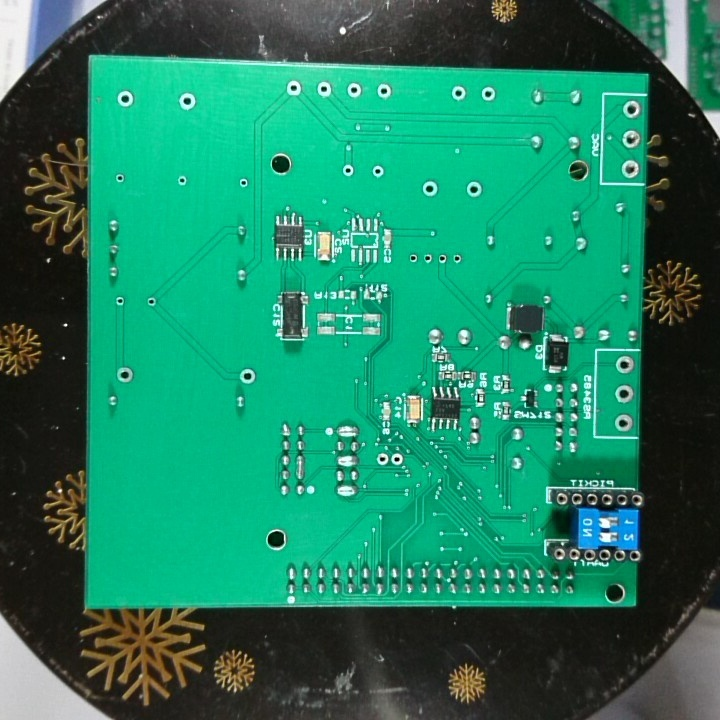F: (176, 90, 199, 115), (621, 127, 643, 152), (114, 87, 137, 109), (614, 353, 636, 376), (619, 157, 641, 180), (621, 98, 641, 123), (614, 383, 635, 406), (114, 364, 135, 386), (612, 411, 634, 432), (464, 178, 484, 200), (238, 366, 258, 387), (448, 83, 469, 103), (419, 178, 440, 198), (314, 78, 333, 100), (374, 81, 394, 101), (285, 77, 303, 99), (479, 84, 497, 103), (345, 80, 362, 100), (369, 162, 385, 182), (174, 171, 191, 189), (340, 162, 357, 180), (420, 249, 435, 269), (111, 169, 128, 186), (434, 251, 451, 268), (374, 450, 390, 468), (390, 451, 405, 470), (235, 175, 251, 191), (407, 250, 421, 267), (450, 252, 465, 267), (114, 293, 128, 309), (145, 294, 157, 310)
P: (335, 423, 362, 439), (335, 453, 362, 469), (334, 484, 361, 500), (294, 453, 308, 480)
